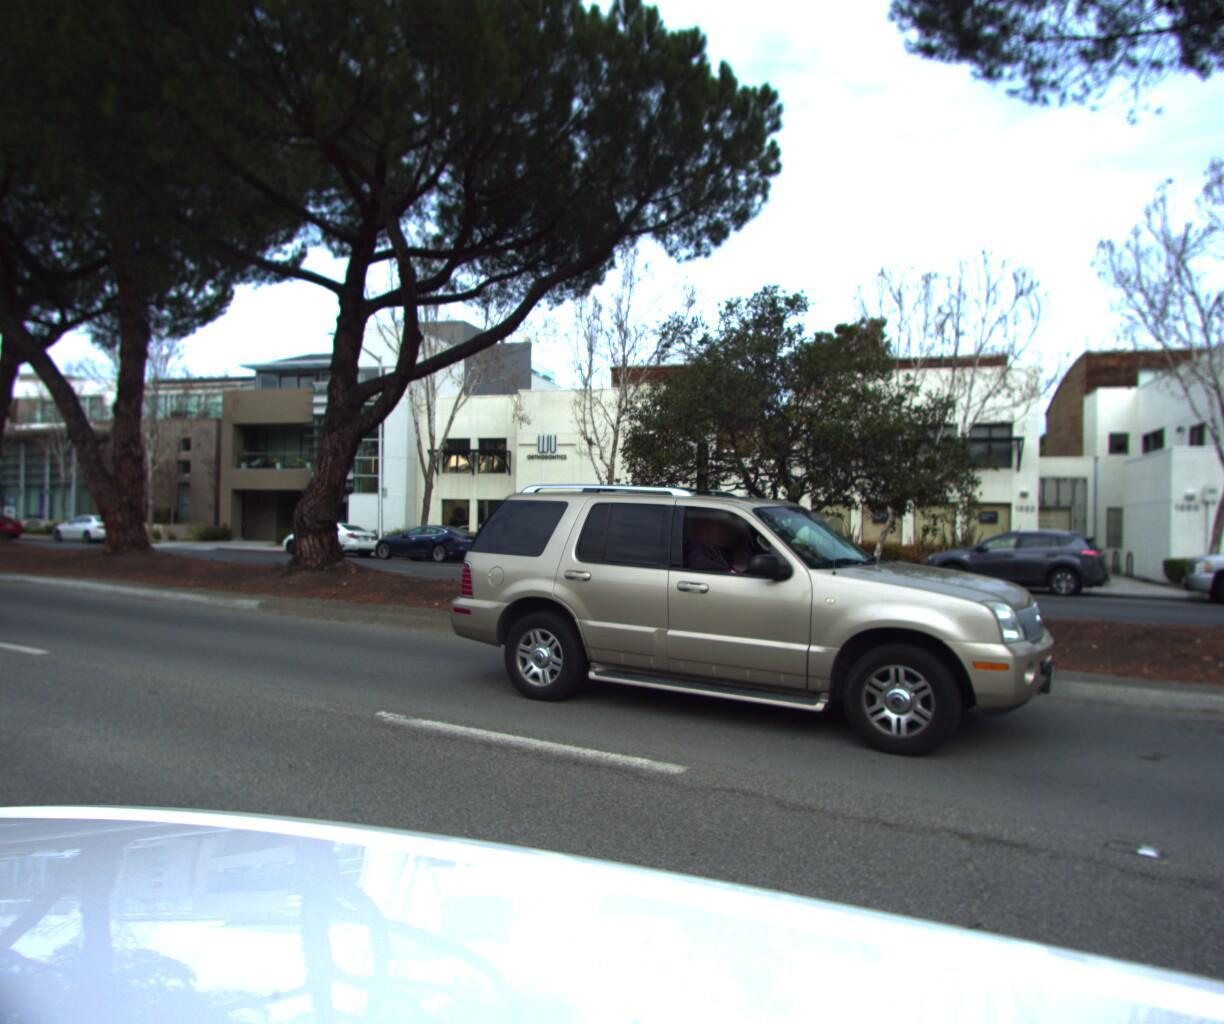car: (422, 464, 1031, 767), (909, 526, 1109, 598), (357, 523, 492, 567), (1168, 517, 1224, 619), (268, 522, 383, 563), (47, 517, 133, 548), (0, 517, 26, 543)
